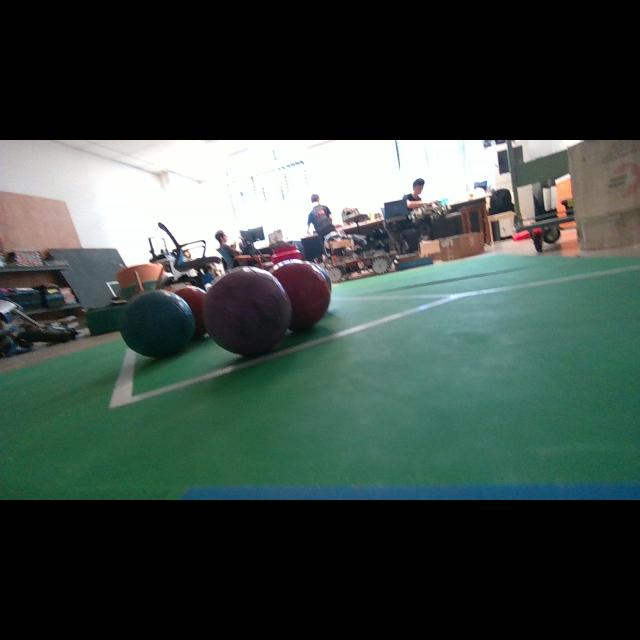B: (120, 290, 195, 358)
P: (204, 266, 291, 356)
R: (270, 259, 331, 331), (175, 286, 206, 338)
